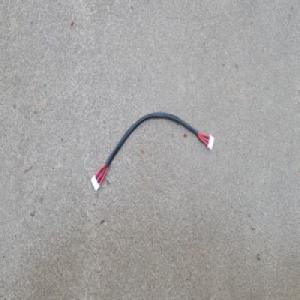Wire: (89, 109, 215, 193)
